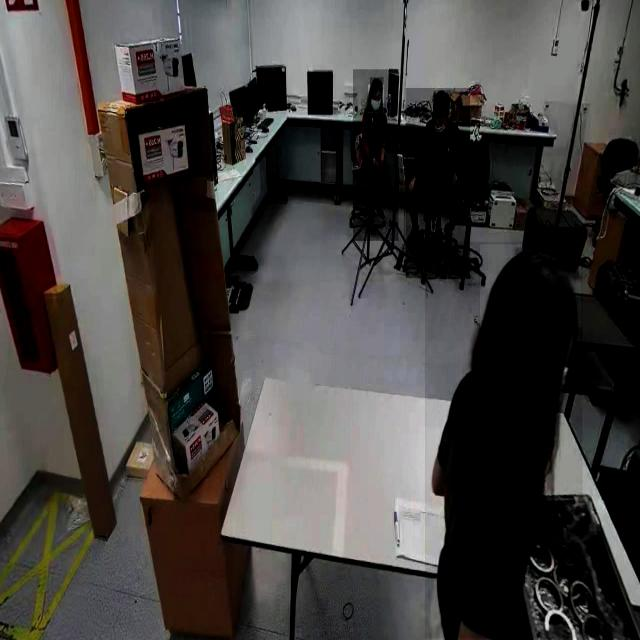face_mask: (368, 84, 384, 120)
hand_noglove: (374, 160, 384, 175), (378, 164, 384, 182)
head_nohelmet: (479, 244, 582, 328), (433, 90, 451, 110), (369, 77, 384, 91)
person: (424, 242, 582, 639), (405, 88, 470, 279), (352, 69, 398, 242)
